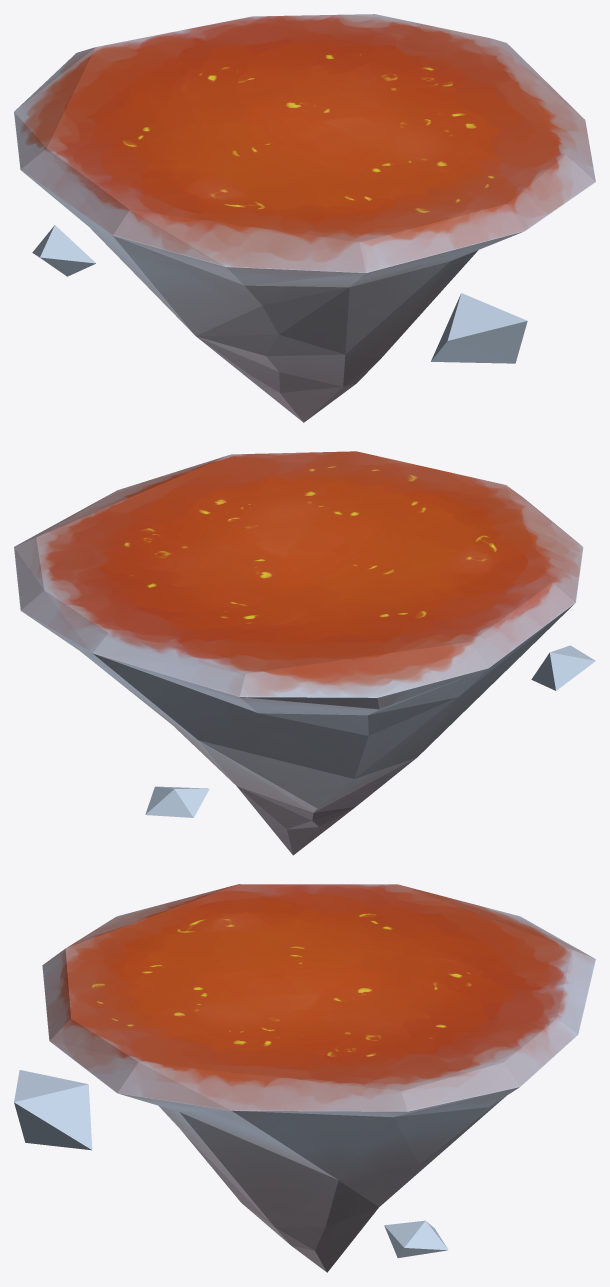
Rendered from BlueMAP.fbx.
The picture shows the model from 3 angles, top to bottom: view 1: azimuth 30°, elevation 25°; view 2: azimuth 150°, elevation 25°; view 3: azimuth 270°, elevation 25°; orthographic projection. The views are drawn at different scales.
Parts seen in each view (by area): view 1: tikei5; view 2: tikei5; view 3: tikei5.
Part boxes in pixels (<box>): tikei5: <box>14,14,595,422</box>; tikei5: <box>14,451,595,855</box>; tikei5: <box>14,884,595,1272</box>.
Size of the model in its own units: 343 by 185 by 341.
1 material, 1 textured.
